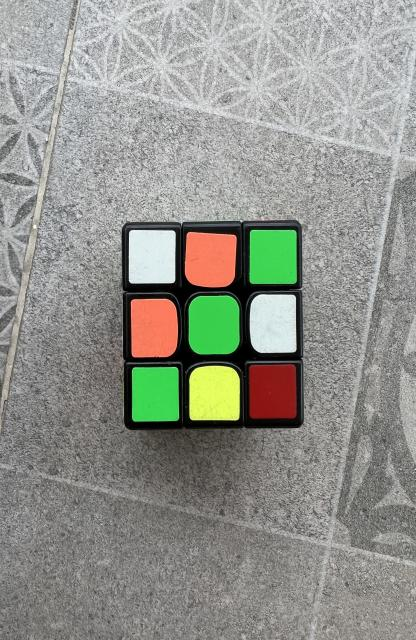Green: (188, 295, 239, 355), (132, 366, 180, 421), (249, 230, 297, 284)
Orange: (185, 232, 236, 288), (131, 299, 178, 358)
Red: (249, 364, 297, 419)
White: (249, 294, 297, 352), (129, 230, 176, 284)
Yellow: (188, 365, 240, 421)
